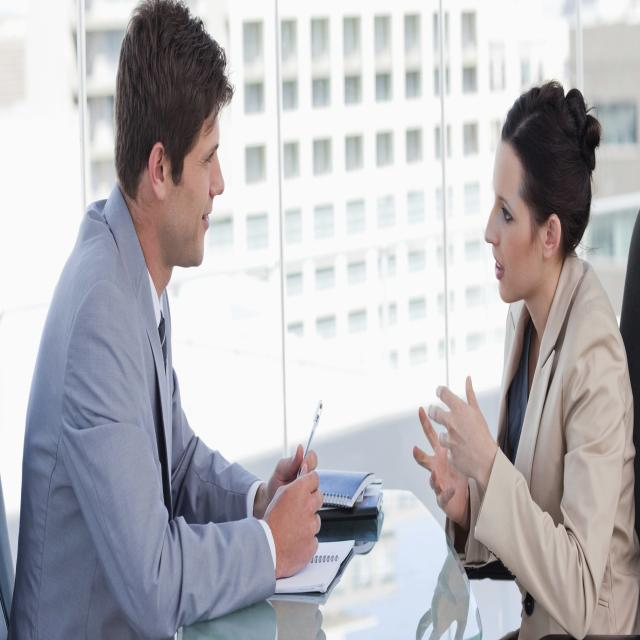adult: (9, 5, 326, 640), (412, 90, 632, 640)
